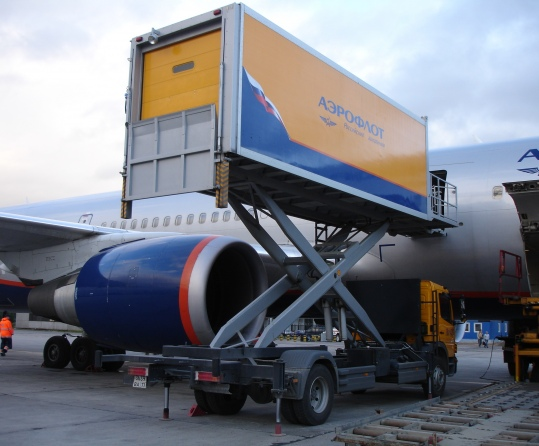Catering truck: (108, 5, 478, 398)
